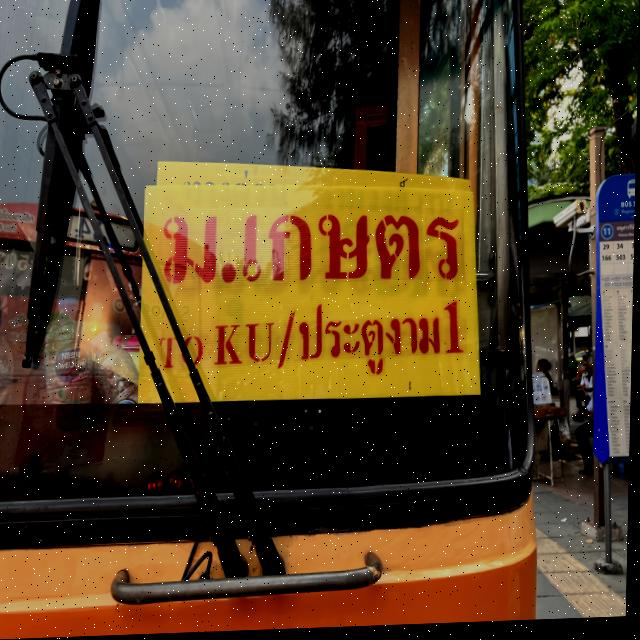BMTA-bus: (0, 0, 557, 640)
Destination Sign: (141, 179, 488, 404)
